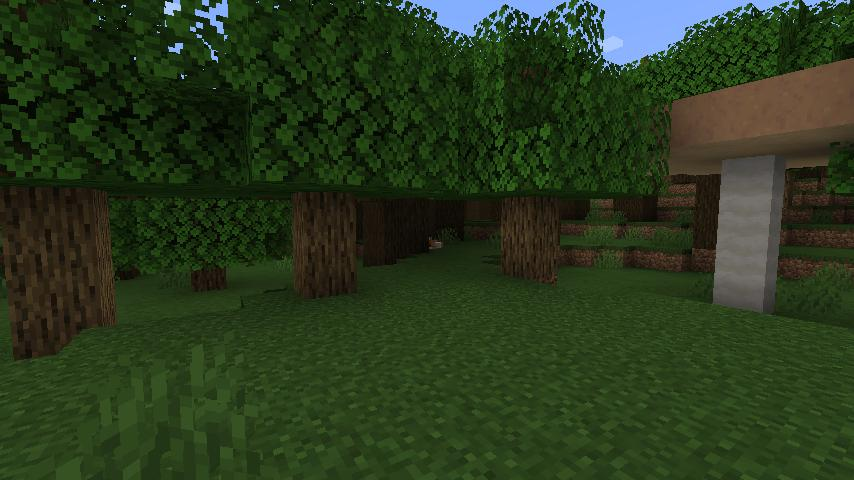fox: (428, 236, 444, 251)
